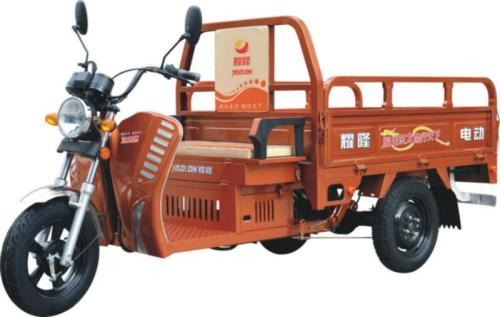tricycle: (15, 19, 476, 302)
